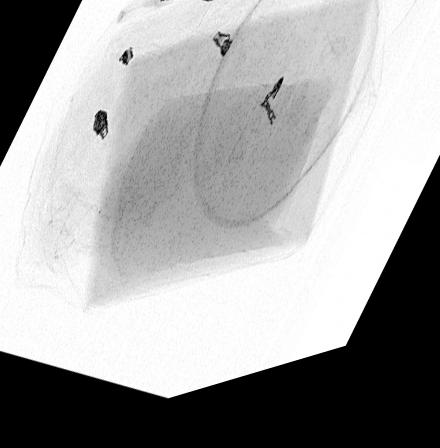Scissors: (112, 0, 241, 31)
